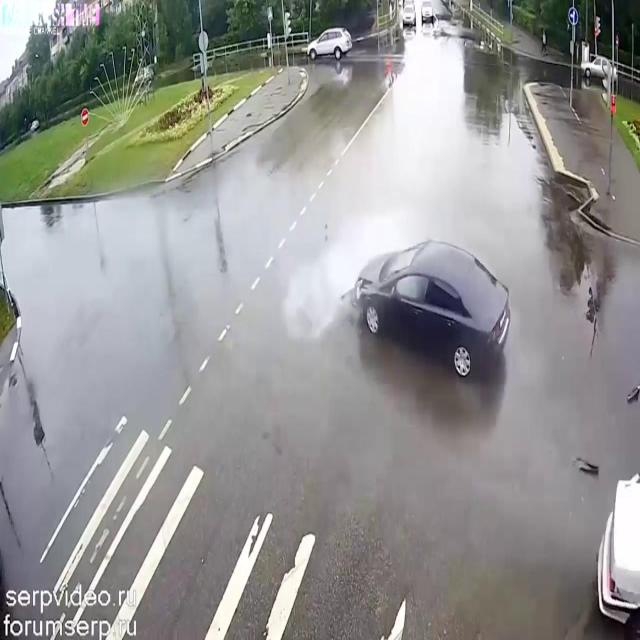accident: (309, 211, 519, 397)
